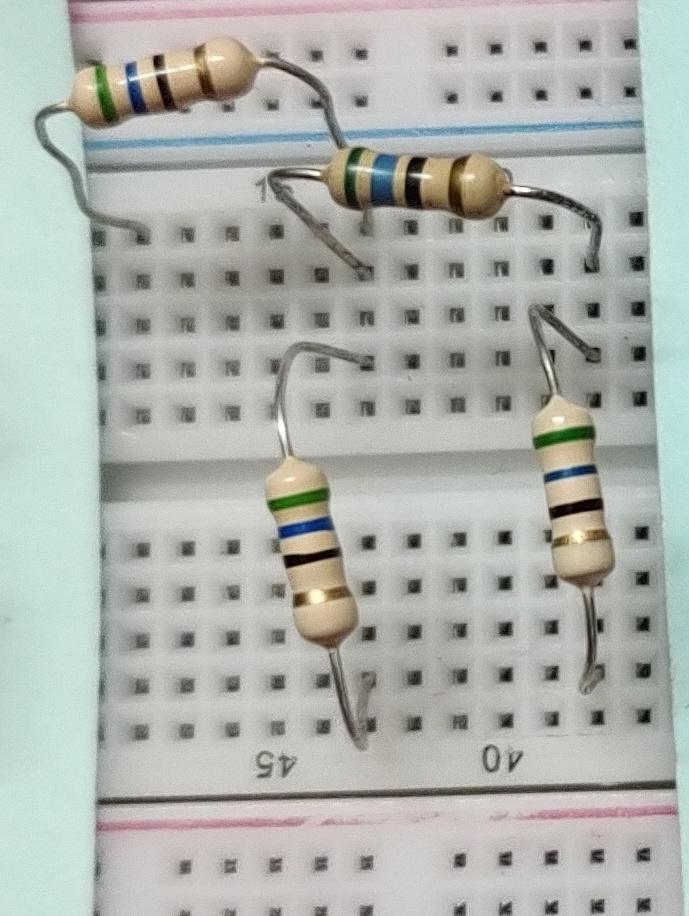resistor: (243, 435, 366, 664), (57, 17, 268, 131), (317, 127, 530, 235), (525, 391, 617, 607)
